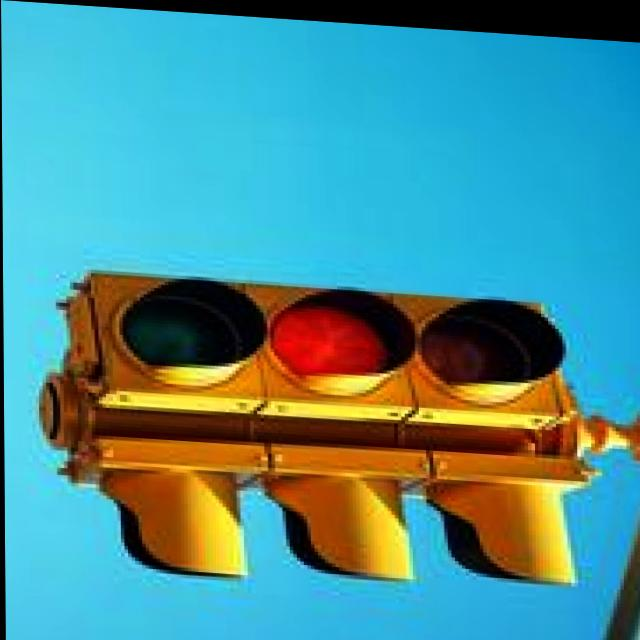green_light: (89, 242, 279, 418)
red_light: (279, 252, 410, 429)
